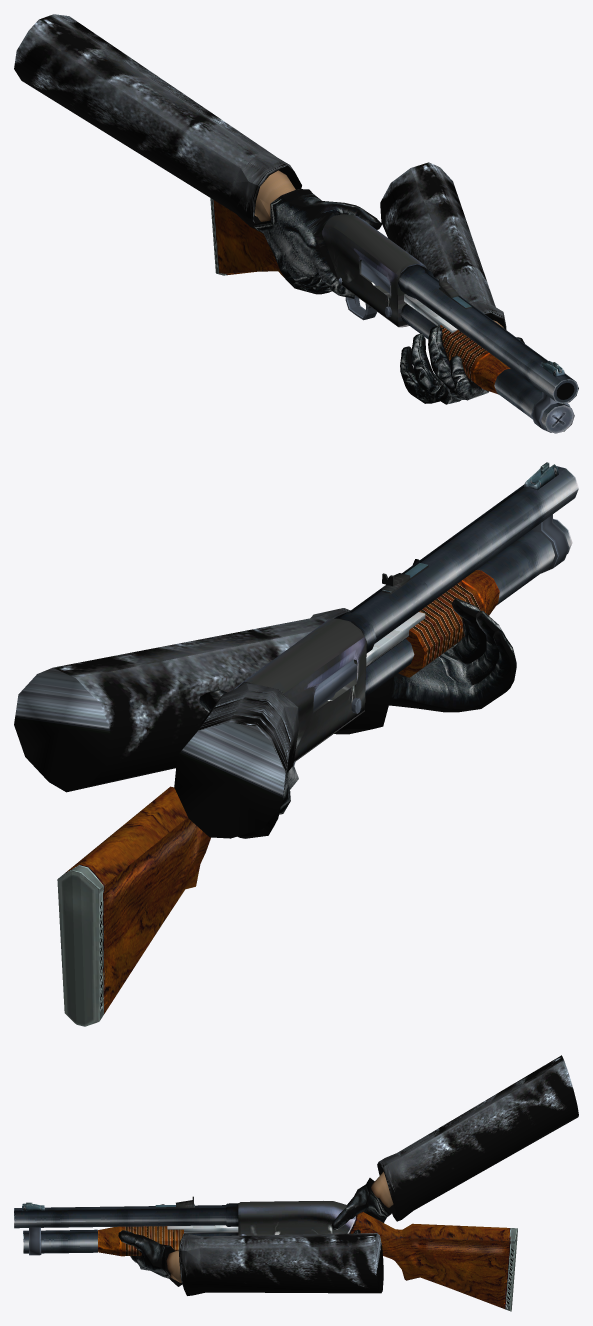
Rendered from fn_shotgun.FBX.
3 views of the same model, one above another, from view 1: azimuth 30°, elevation 25°; view 2: azimuth 150°, elevation 25°; view 3: azimuth 270°, elevation 25° (orthographic). The views are drawn at different scales.
Parts seen in each view (by area): view 1: fn_shotgun; view 2: fn_shotgun; view 3: fn_shotgun.
Boxes of the visible parts, x1,y1,x2,y2 form: fn_shotgun: (14, 14, 578, 433); fn_shotgun: (14, 462, 578, 1026); fn_shotgun: (14, 1055, 578, 1311).
Size of the model in its own units: 15.85 by 33.36 by 13.01.
